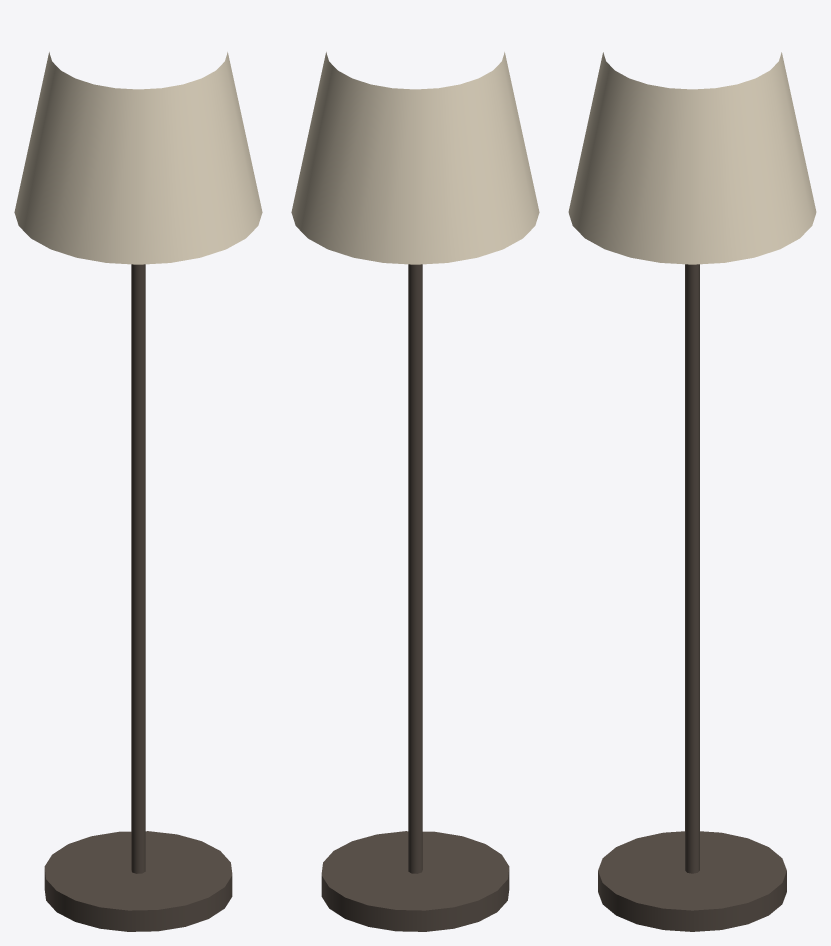
File: lamp-floor-cream.glb
3 renders of one model, left to right at view 1: azimuth 30°, elevation 25°; view 2: azimuth 150°, elevation 25°; view 3: azimuth 270°, elevation 25°, orthographic.
Visible parts, largest first — view 1: lamp-floor-cream_m_f3e7cf, lamp-floor-cream_m_5a5048; view 2: lamp-floor-cream_m_f3e7cf, lamp-floor-cream_m_5a5048; view 3: lamp-floor-cream_m_f3e7cf, lamp-floor-cream_m_5a5048.
Part boxes in pixels (x1=…): lamp-floor-cream_m_f3e7cf: x1=14, y1=52, x2=262, y2=264; lamp-floor-cream_m_5a5048: x1=44, y1=264, x2=232, y2=931; lamp-floor-cream_m_f3e7cf: x1=291, y1=52, x2=539, y2=264; lamp-floor-cream_m_5a5048: x1=321, y1=264, x2=509, y2=931; lamp-floor-cream_m_f3e7cf: x1=568, y1=52, x2=816, y2=264; lamp-floor-cream_m_5a5048: x1=598, y1=264, x2=786, y2=931.
Bounding box in the file's own units: 0.42 × 1.57 × 0.42.
